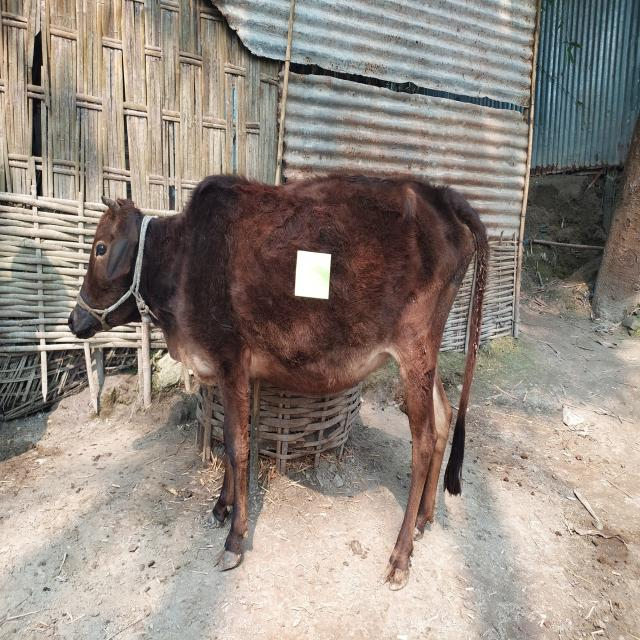badan_sapi: (202, 171, 472, 401)
sapi: (59, 147, 494, 596)
